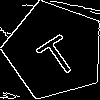T: (29, 25, 82, 81)
